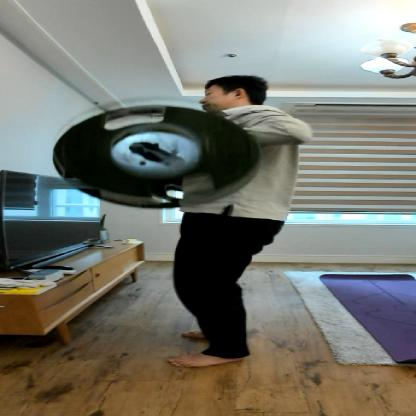Barbell: (49, 96, 274, 214)
